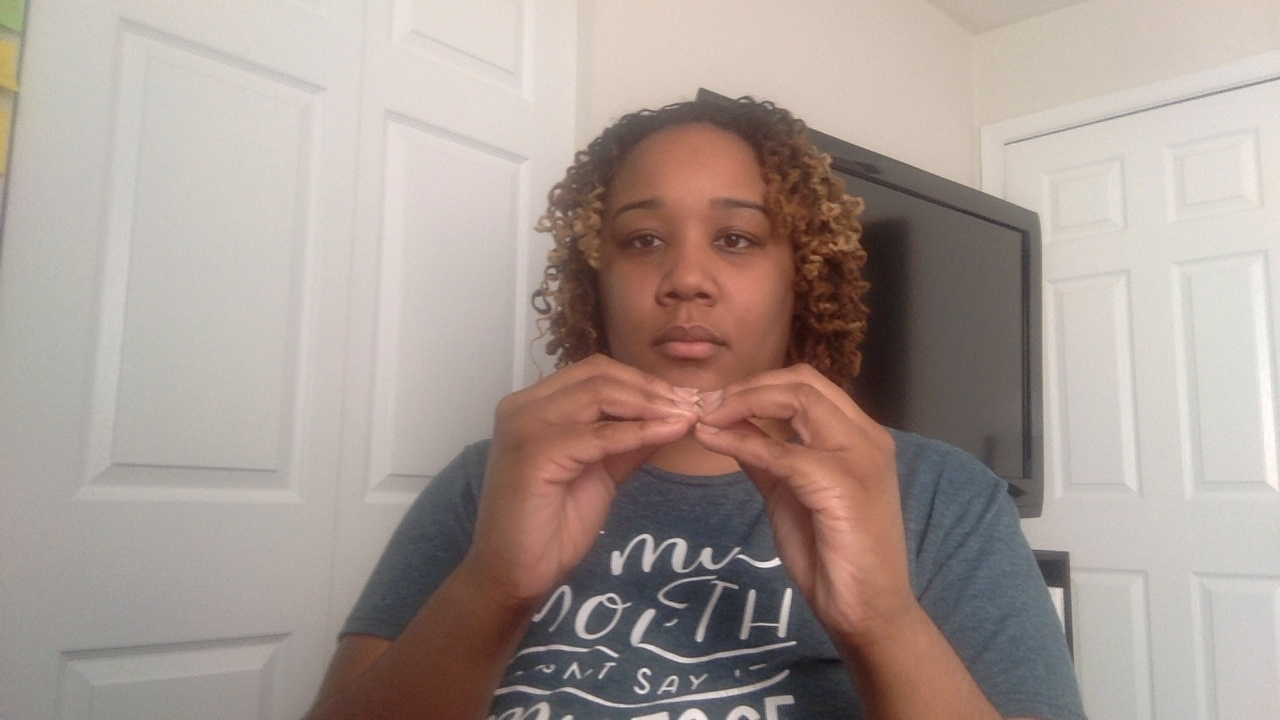more: (469, 354, 915, 624)
